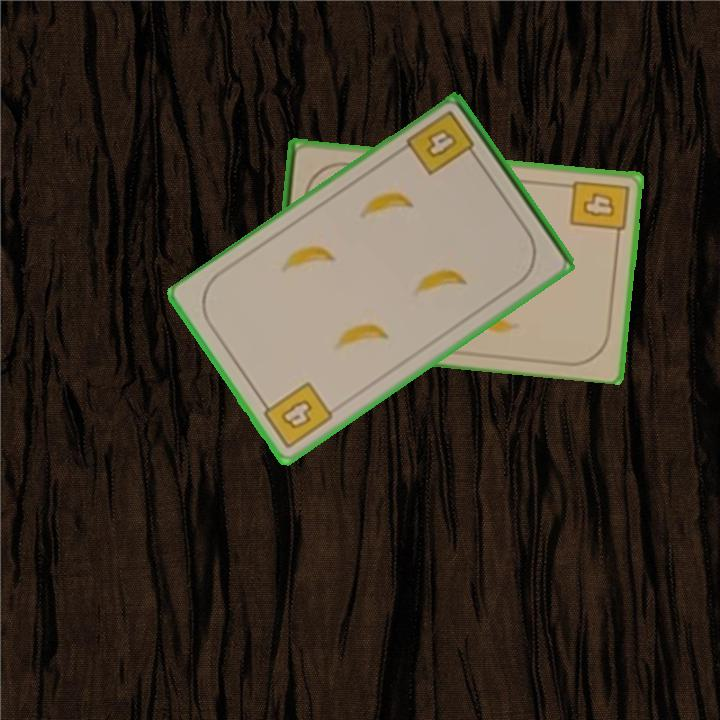4b: (256, 378, 336, 452), (402, 107, 482, 179), (566, 176, 631, 243)
